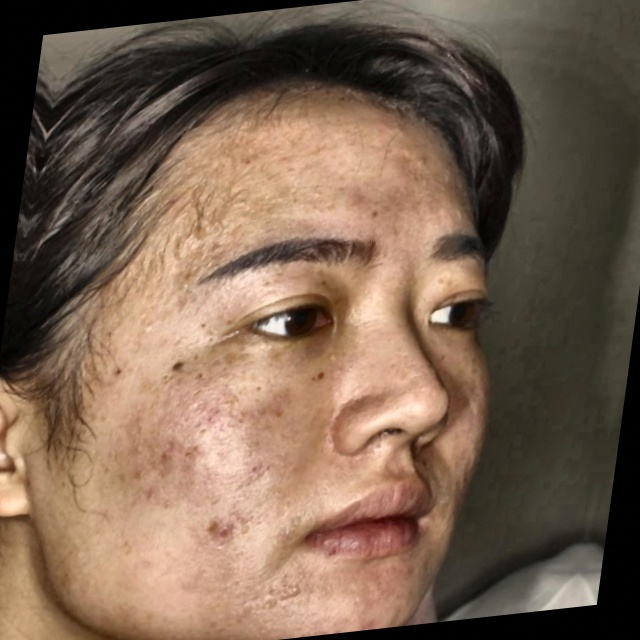comedone: (398, 139, 446, 184), (196, 516, 248, 548)
